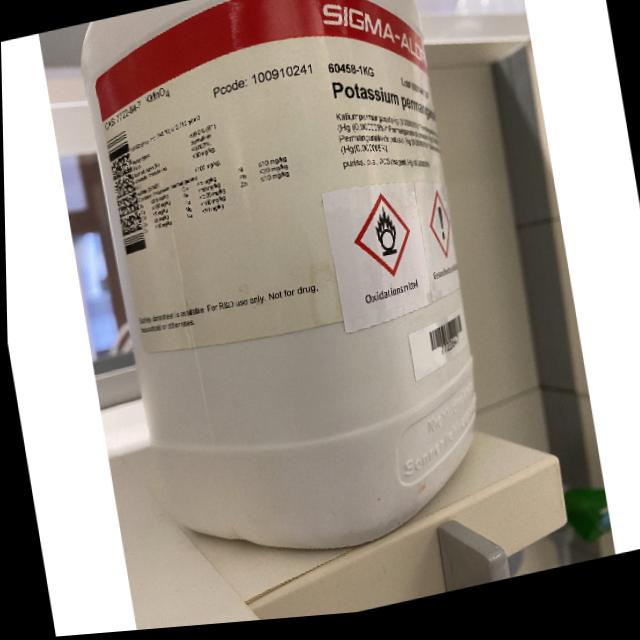health-ozone layer hazard: (437, 213, 445, 247)
oxidising: (371, 211, 398, 264)
